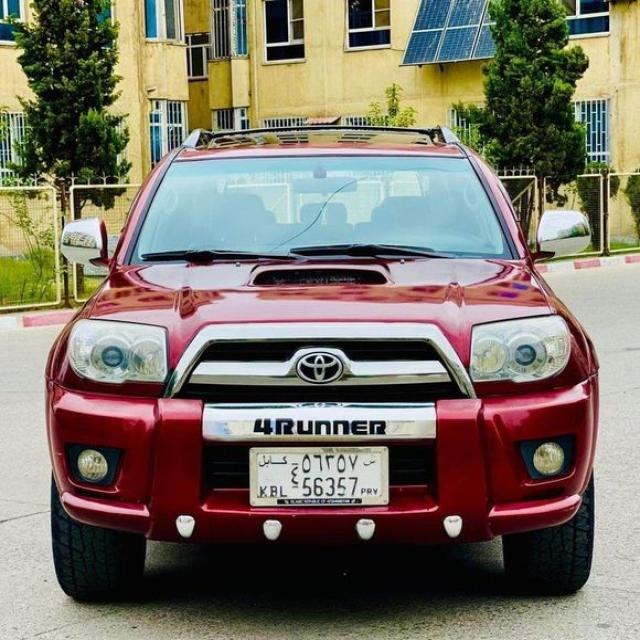Plate: (252, 448, 391, 505)
